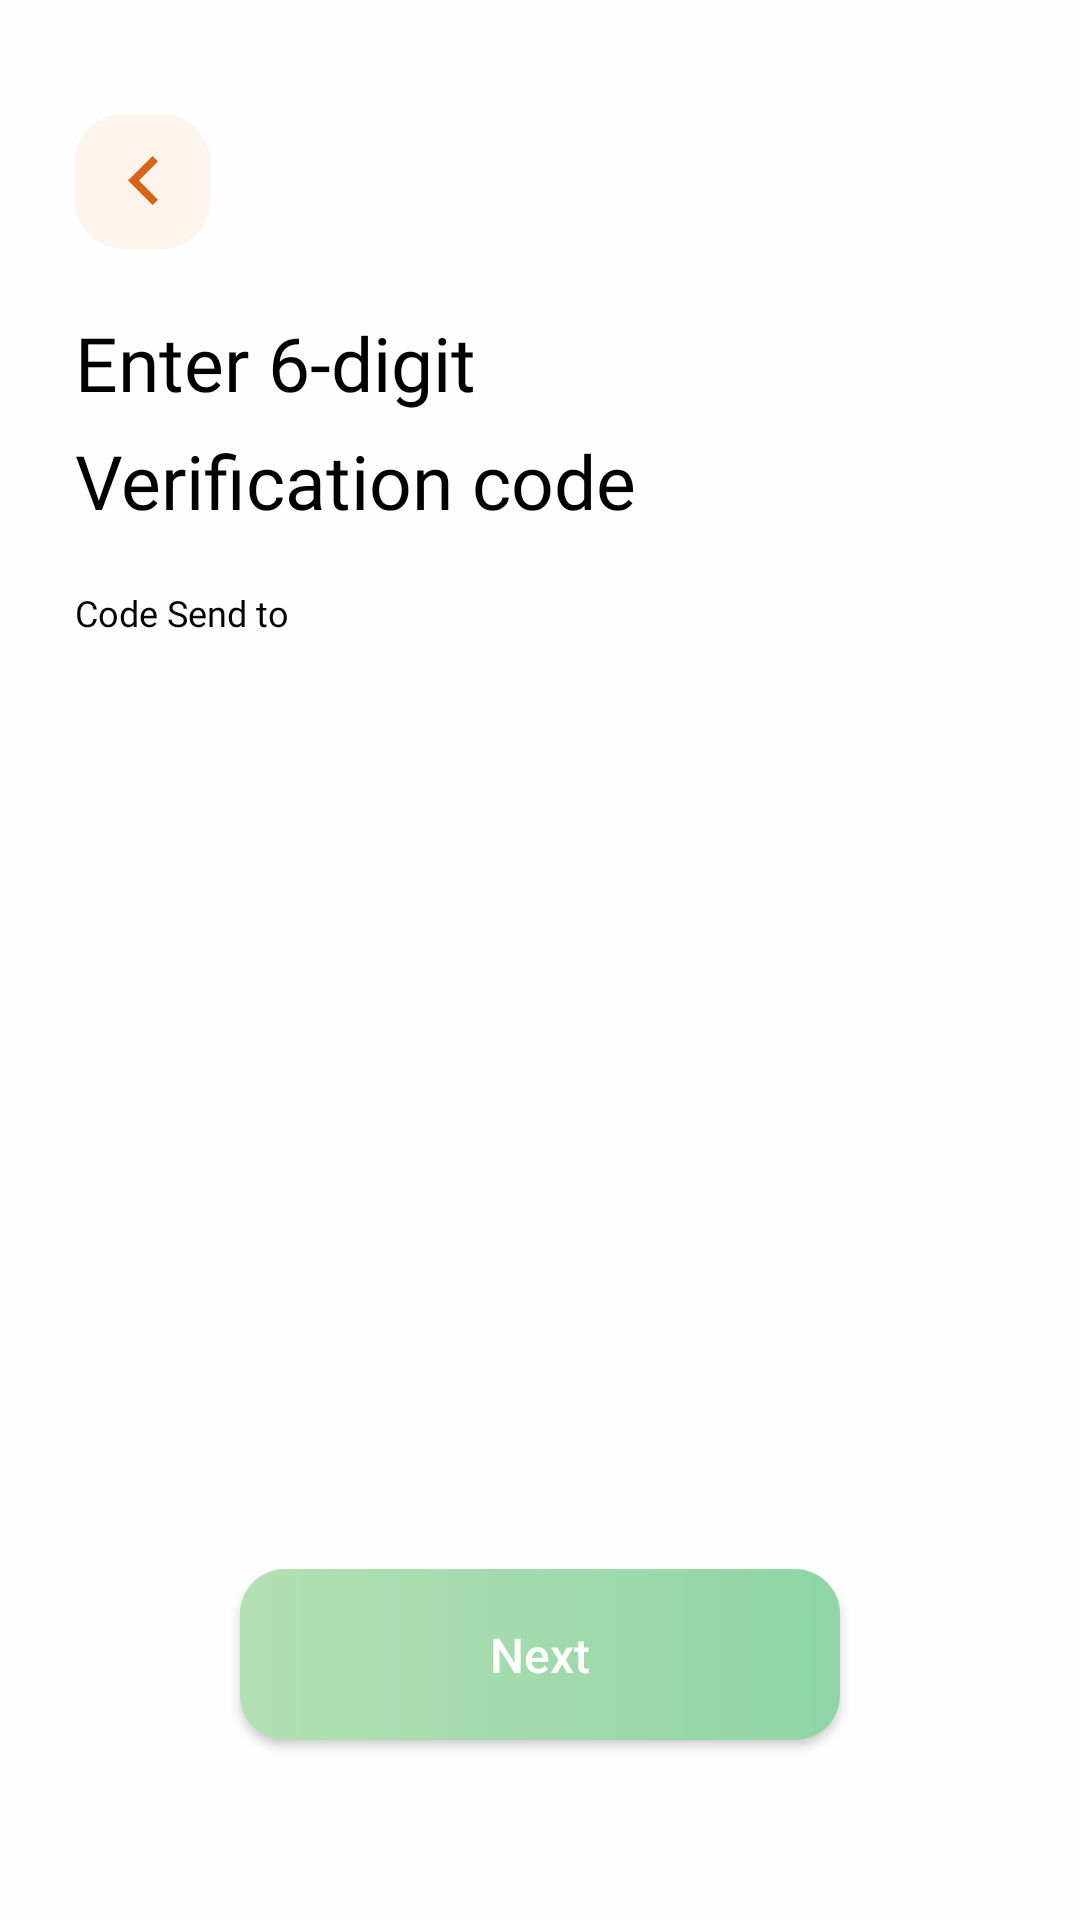

Where icons sit on this 1080px×1920px app screen, as (x1=x1, y1=y1, x2=x2, y2=y2):
back arrow: (x1=75, y1=114, x2=210, y2=249)
